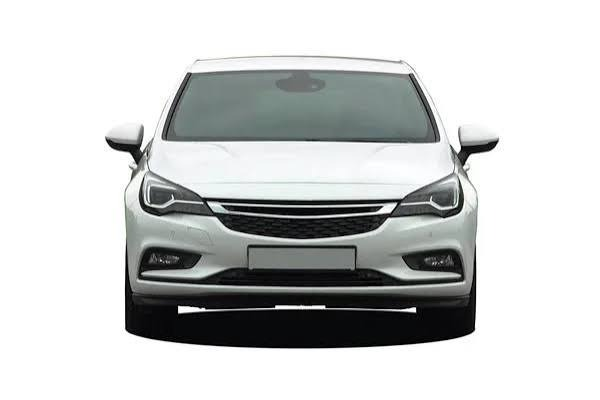car: (101, 51, 491, 354)
